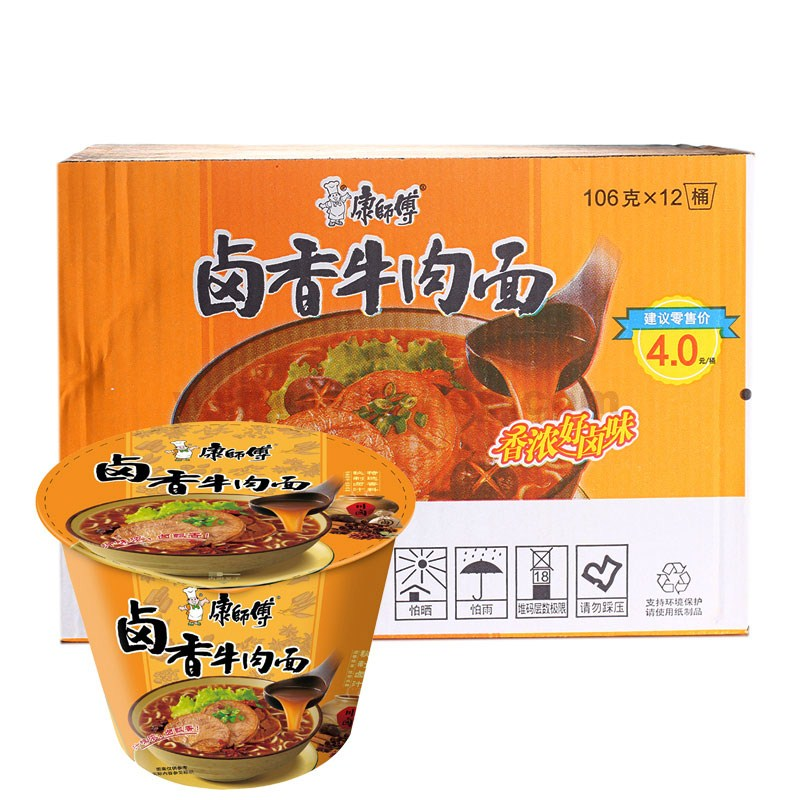luxiang: (36, 421, 416, 791)
